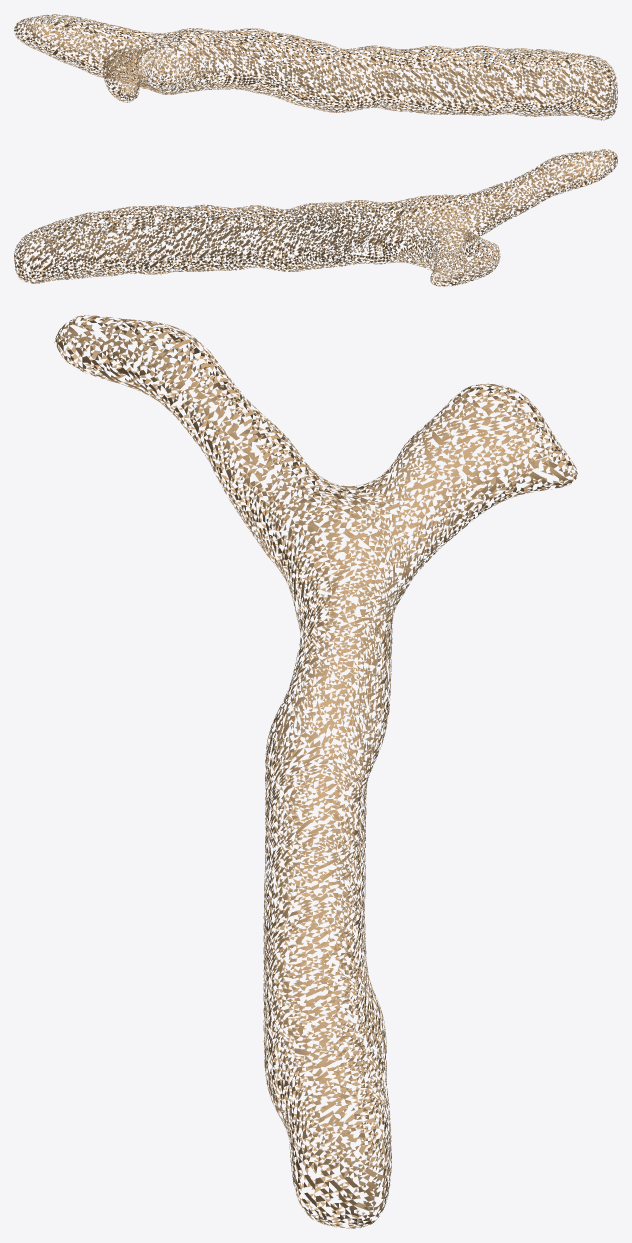
The model's file is morph_006.glb.
3 renders of one model, top to bottom at view 1: azimuth 30°, elevation 25°; view 2: azimuth 150°, elevation 25°; view 3: azimuth 270°, elevation 25°, orthographic. The views are drawn at different scales.
Size of the model in its own units: 141 by 53.36 by 60.13.
